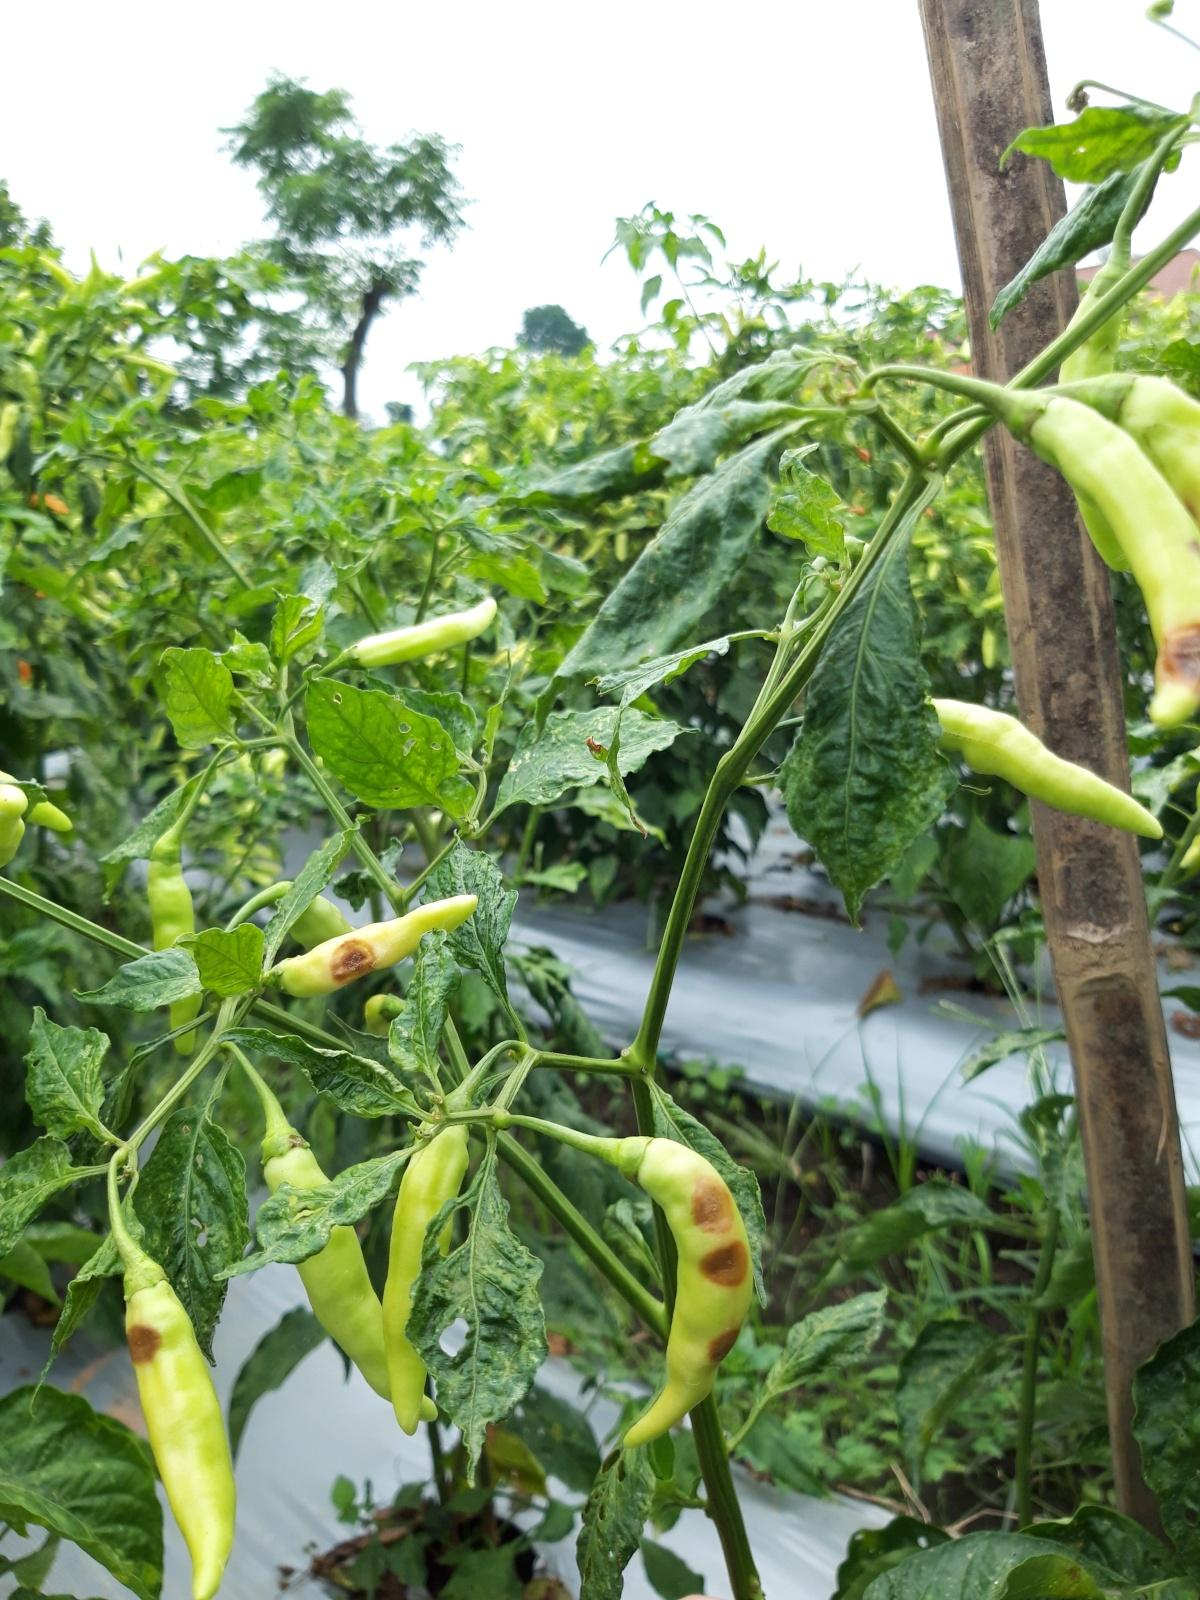cabai_normal: (261, 1128, 441, 1426), (926, 699, 1168, 839), (382, 1092, 476, 1432), (146, 839, 203, 1057), (337, 596, 495, 668)
lalat_buah: (1002, 388, 1200, 732), (616, 1136, 751, 1445), (122, 1259, 237, 1600), (272, 893, 478, 1000)
